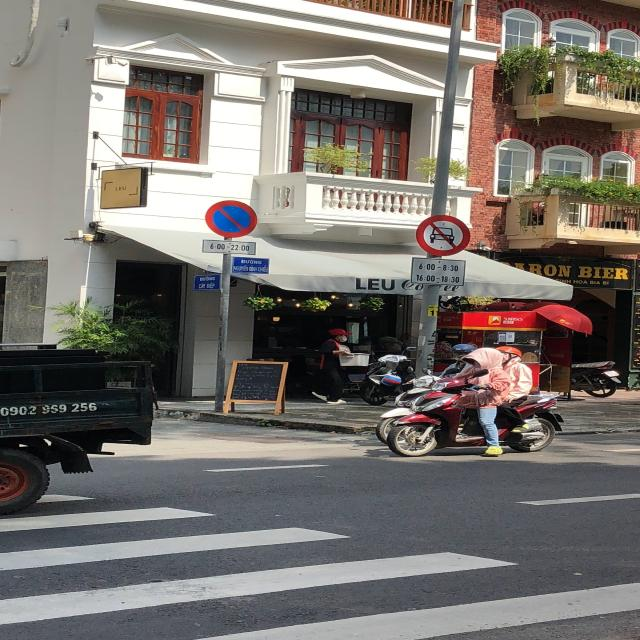Bien bao cam do xe: (205, 198, 264, 238)
Bien bao cam xe oto: (417, 213, 477, 259)
